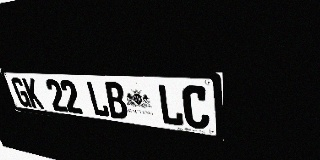2: (59, 80, 83, 114), (44, 79, 68, 112)
B: (103, 81, 129, 120)
C: (181, 85, 210, 130)
G: (10, 77, 32, 108)
K: (22, 78, 44, 109)
L: (157, 84, 184, 127), (85, 81, 111, 118)
